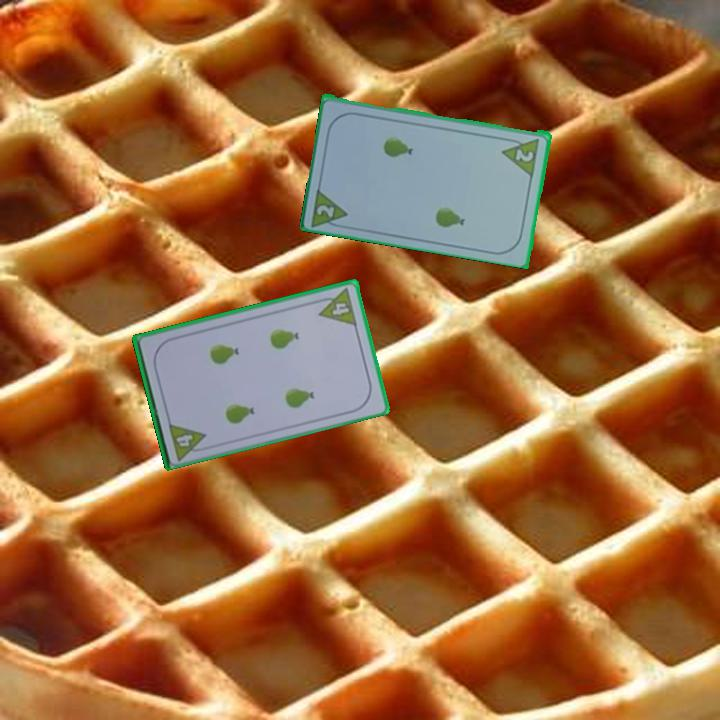2p: (512, 145, 537, 164), (313, 201, 338, 220)
4p: (312, 285, 360, 329), (165, 418, 211, 462)
